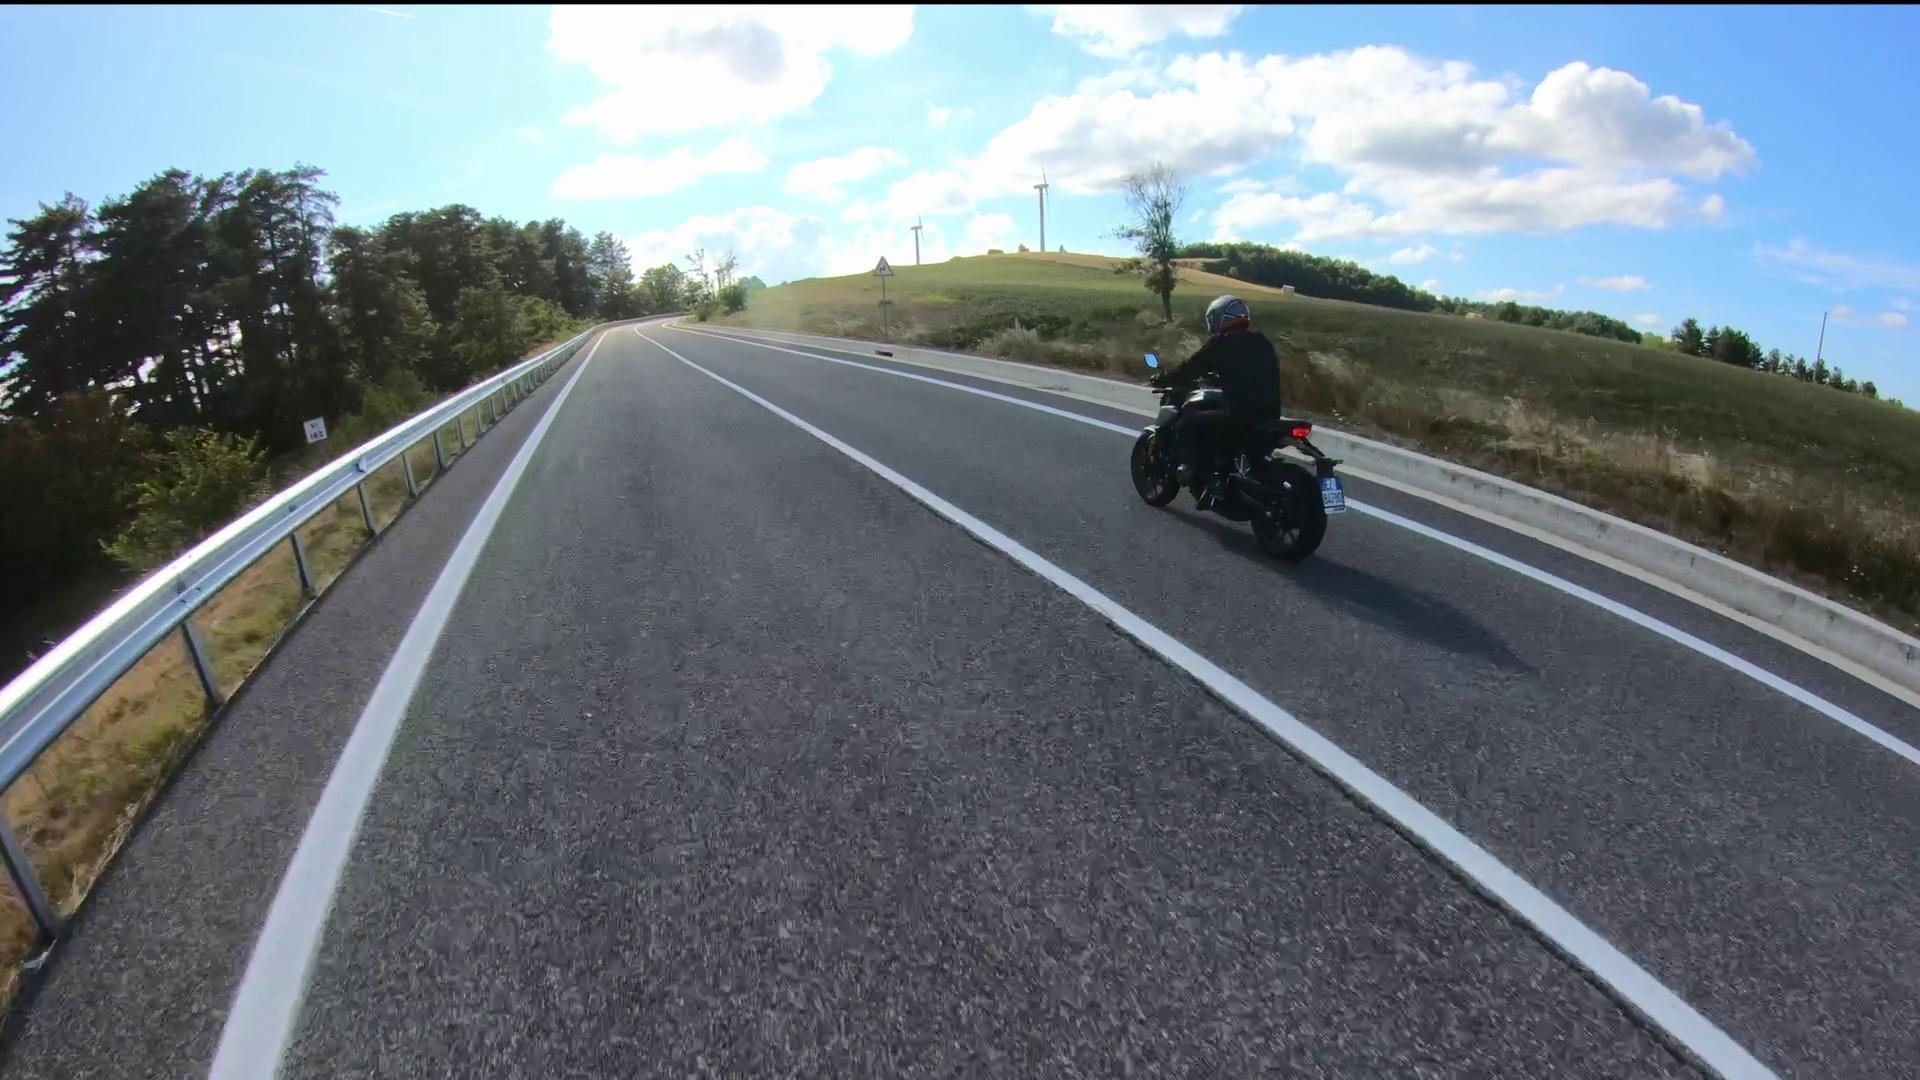motorbike: (1129, 351, 1349, 571)
person: (1156, 292, 1276, 520)
